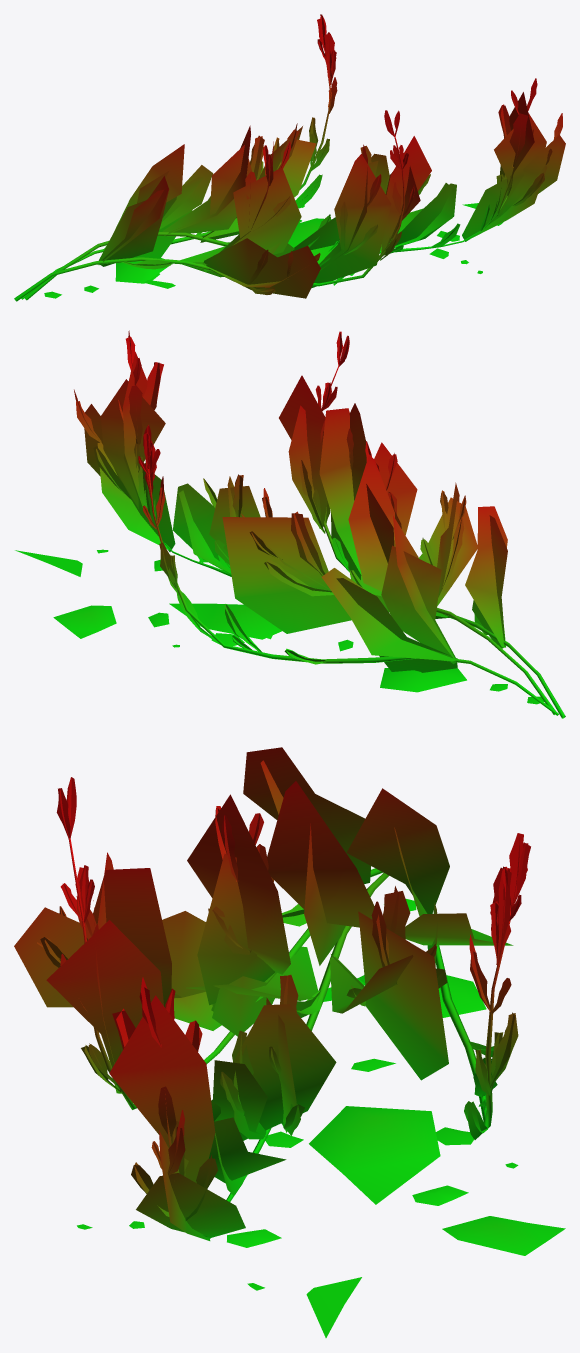
File: River Saltbush_LOD1_Var5_vdfpcgbia.fbx
The picture shows the model from 3 angles, top to bottom: view 1: azimuth 30°, elevation 25°; view 2: azimuth 150°, elevation 25°; view 3: azimuth 270°, elevation 25°; orthographic projection. The views are drawn at different scales.
Parts seen in each view (by area): view 1: _y2gh_Var5_LOD1; view 2: _y2gh_Var5_LOD1; view 3: _y2gh_Var5_LOD1.
Part boxes in pixels (bbox=[...]): _y2gh_Var5_LOD1: bbox=[14, 14, 565, 301]; _y2gh_Var5_LOD1: bbox=[15, 330, 565, 718]; _y2gh_Var5_LOD1: bbox=[14, 747, 565, 1337].
Bounding box in the file's own units: 46.39 × 17.37 × 23.38.
